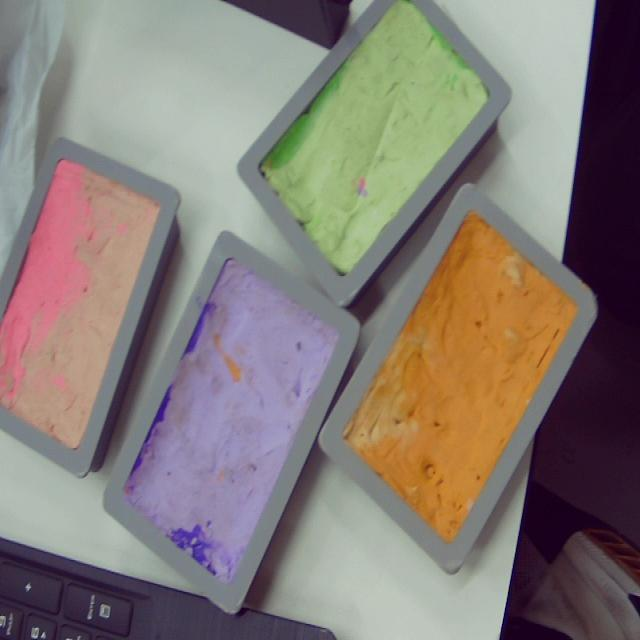block: (314, 185, 598, 580), (102, 233, 359, 615), (238, 1, 514, 310), (0, 133, 186, 479)
